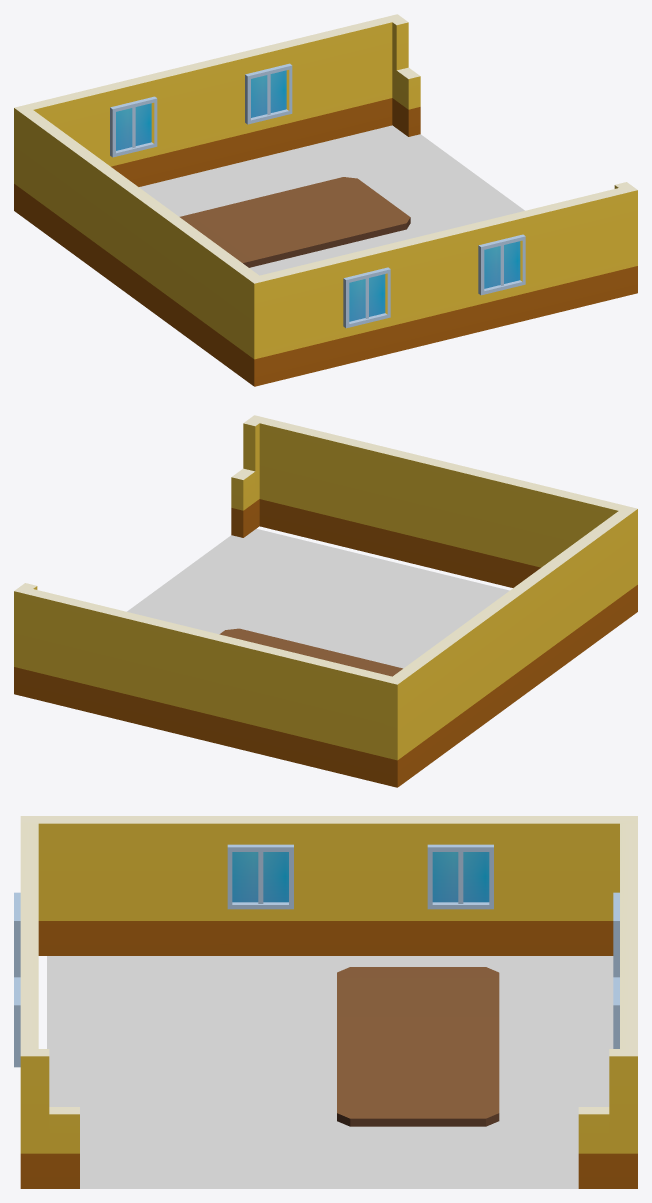
The model's file is Bep.fbx.
3 renders of one model, top to bottom at view 1: azimuth 30°, elevation 25°; view 2: azimuth 150°, elevation 25°; view 3: azimuth 270°, elevation 25°, orthographic. The views are drawn at different scales.
Parts seen in each view (by area): view 1: Bep; view 2: Bep; view 3: Bep.
Part boxes in pixels (x1,y1,x2,y2): Bep: (14,14,637,386); Bep: (14,415,637,787); Bep: (14,816,637,1188).
Size of the model in its own units: 3787 by 973 by 4156.
